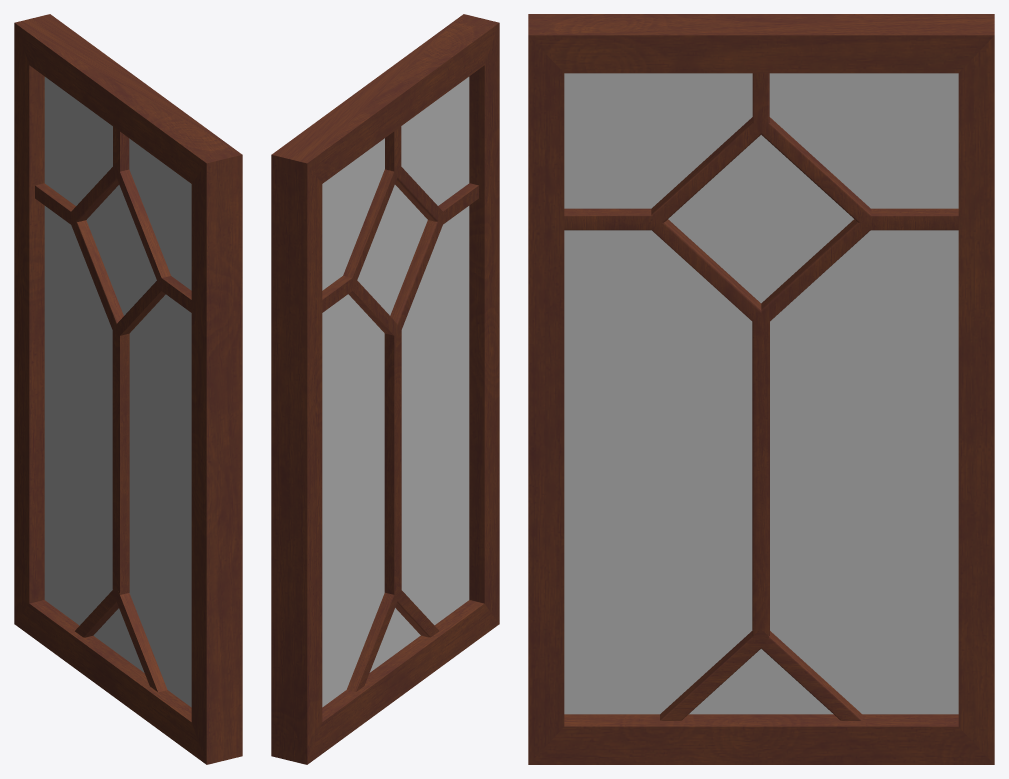
File: SM_Window07D.fbx
3 renders of one model, left to right at view 1: azimuth 30°, elevation 25°; view 2: azimuth 150°, elevation 25°; view 3: azimuth 270°, elevation 25°, orthographic. The views are drawn at different scales.
Visible parts, largest first — view 1: SM_Window07D; view 2: SM_Window07D; view 3: SM_Window07D.
Part boxes in pixels (x1,y1,x2,y2): SM_Window07D: (14,14,242,764); SM_Window07D: (271,14,499,764); SM_Window07D: (528,14,994,764).
Size of the model in its own units: 5.36 by 49.94 by 86.18.
